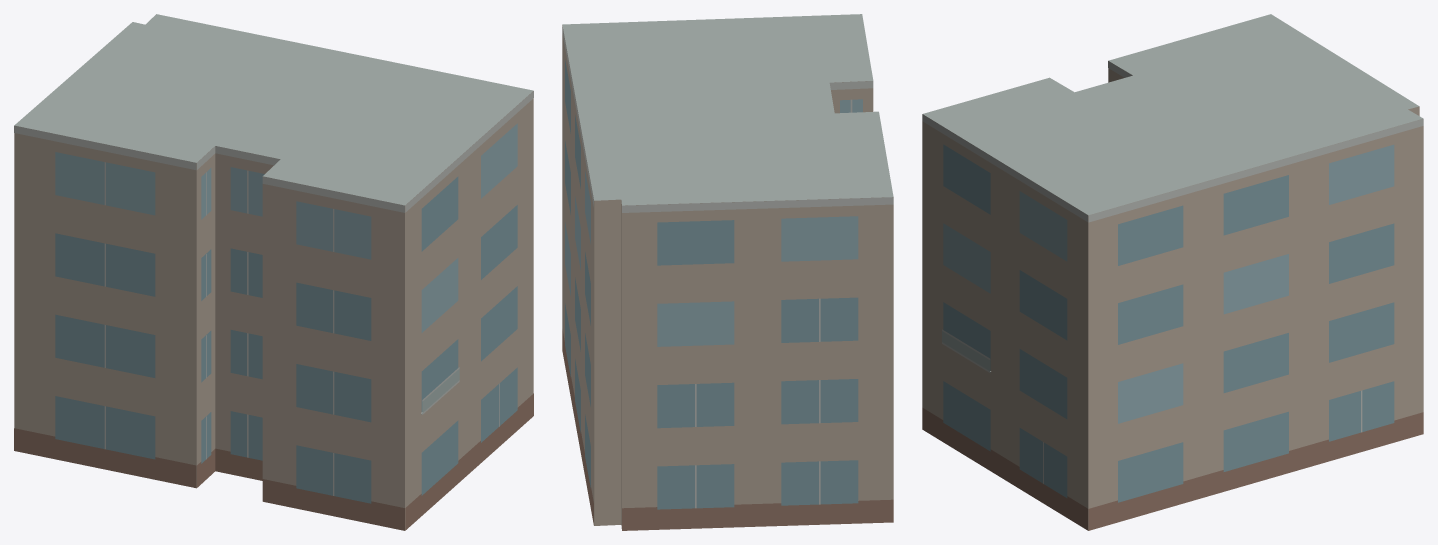
The model's file is survey-upis-32881691.glb.
The picture shows the model from 3 angles, left to right: view 1: azimuth 30°, elevation 25°; view 2: azimuth 150°, elevation 25°; view 3: azimuth 270°, elevation 25°; orthographic projection. The views are drawn at different scales.
Visible parts, largest first — view 1: survey-upis-32881691.tmp; view 2: survey-upis-32881691.tmp; view 3: survey-upis-32881691.tmp.
Part boxes in pixels (<box>): survey-upis-32881691.tmp: <box>14,14,533,530</box>; survey-upis-32881691.tmp: <box>562,14,893,530</box>; survey-upis-32881691.tmp: <box>922,14,1423,530</box>.
Bounding box in the file's own units: 14.51 × 10.6 × 15.27.
